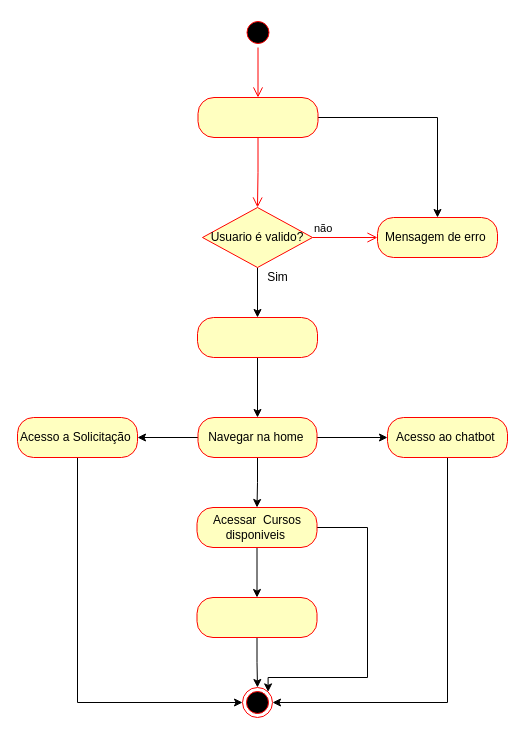
The diagram is 525 pixels wide and 735 high, and some of its shapes have lost their labels. Each missing label, with the centre of its shape:
Acessar as noticias: point 256,617
Acesso ao wi-fi: point 257,337
Login: point 257,117
